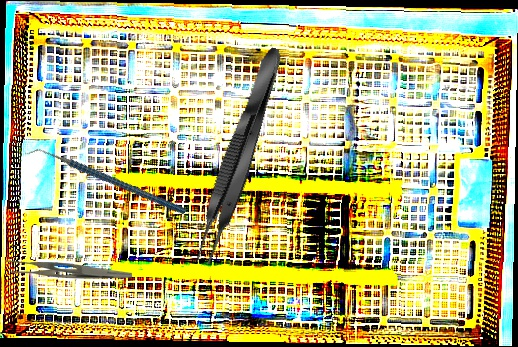Chopper: (23, 103, 188, 261)
Dressing Forceps: (6, 258, 132, 279)
Tissue Forceps: (187, 43, 292, 269)
